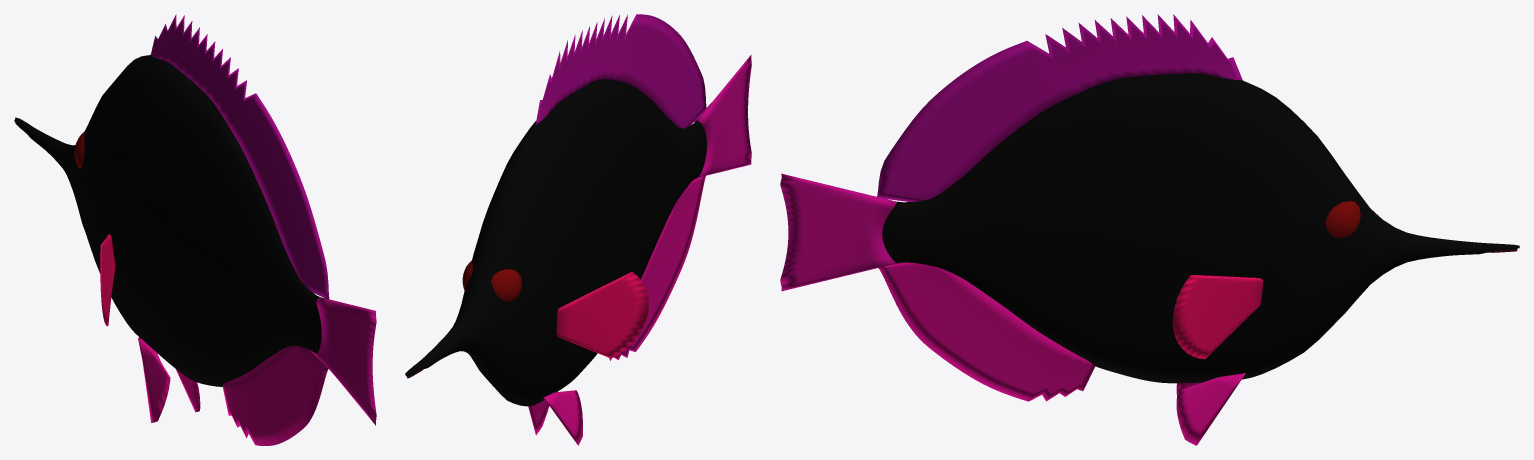
The model's file is butterflyfish_longnose.glb.
3 renders of one model, left to right at view 1: azimuth 30°, elevation 25°; view 2: azimuth 150°, elevation 25°; view 3: azimuth 270°, elevation 25°, orthographic. The views are drawn at different scales.
Visible parts, largest first — view 1: butterflyfish_longnose; view 2: butterflyfish_longnose; view 3: butterflyfish_longnose.
Part boxes in pixels (x1,y1,x2,y2): butterflyfish_longnose: [14, 14, 376, 445]; butterflyfish_longnose: [405, 14, 751, 445]; butterflyfish_longnose: [780, 14, 1519, 445].
Size of the model in its own units: 0.0484 by 0.1131 by 0.18.
